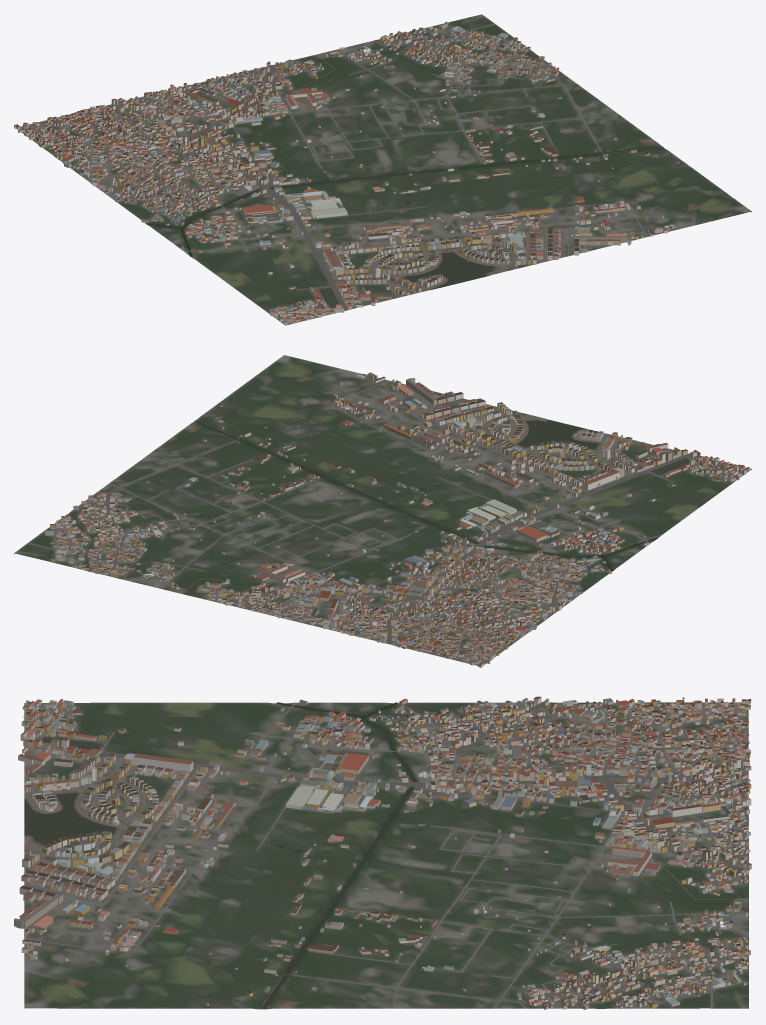
3 renders of one model, top to bottom at view 1: azimuth 30°, elevation 25°; view 2: azimuth 150°, elevation 25°; view 3: azimuth 270°, elevation 25°, orthographic. The views are drawn at different scales.
Parts seen in each view (by area): view 1: ground, buildings, roads, water; view 2: ground, buildings, roads, water; view 3: ground, buildings, roads, water.
Part boxes in pixels (<box>): ground: <box>15,14,751,325</box>; buildings: <box>14,22,679,324</box>; roads: <box>20,24,735,318</box>; water: <box>146,32,663,306</box>; ground: <box>14,355,751,665</box>; buildings: <box>45,372,750,667</box>; roads: <box>28,367,742,665</box>; water: <box>70,420,689,571</box>; ground: <box>24,702,748,1009</box>; buildings: <box>14,696,751,1009</box>; roads: <box>24,702,749,1008</box>; water: <box>24,702,748,1008</box>.
Size of the model in its own units: 1413 by 31.31 by 1428.
